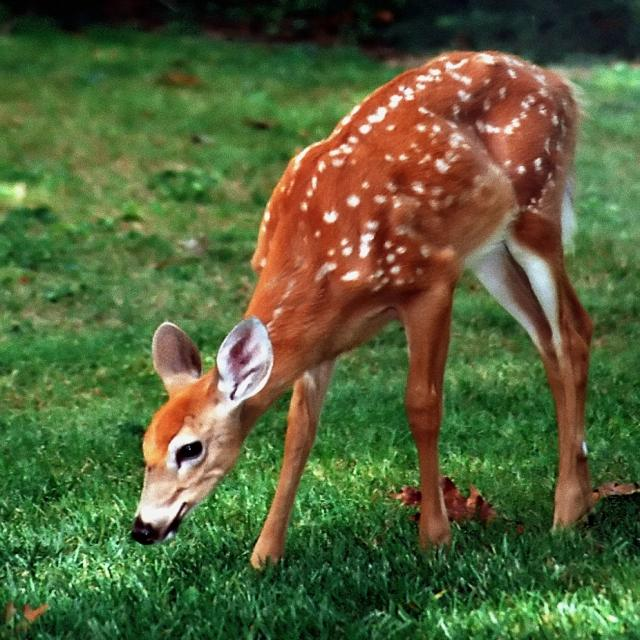deer: (52, 20, 626, 594)
